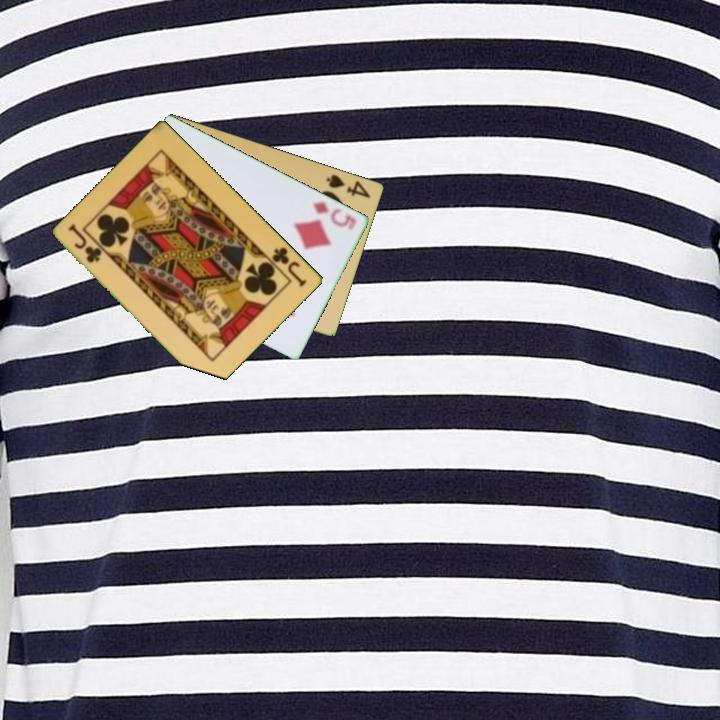4s: (323, 170, 374, 201)
5d: (310, 197, 360, 233)
Jc: (269, 243, 310, 289), (65, 221, 105, 266)
